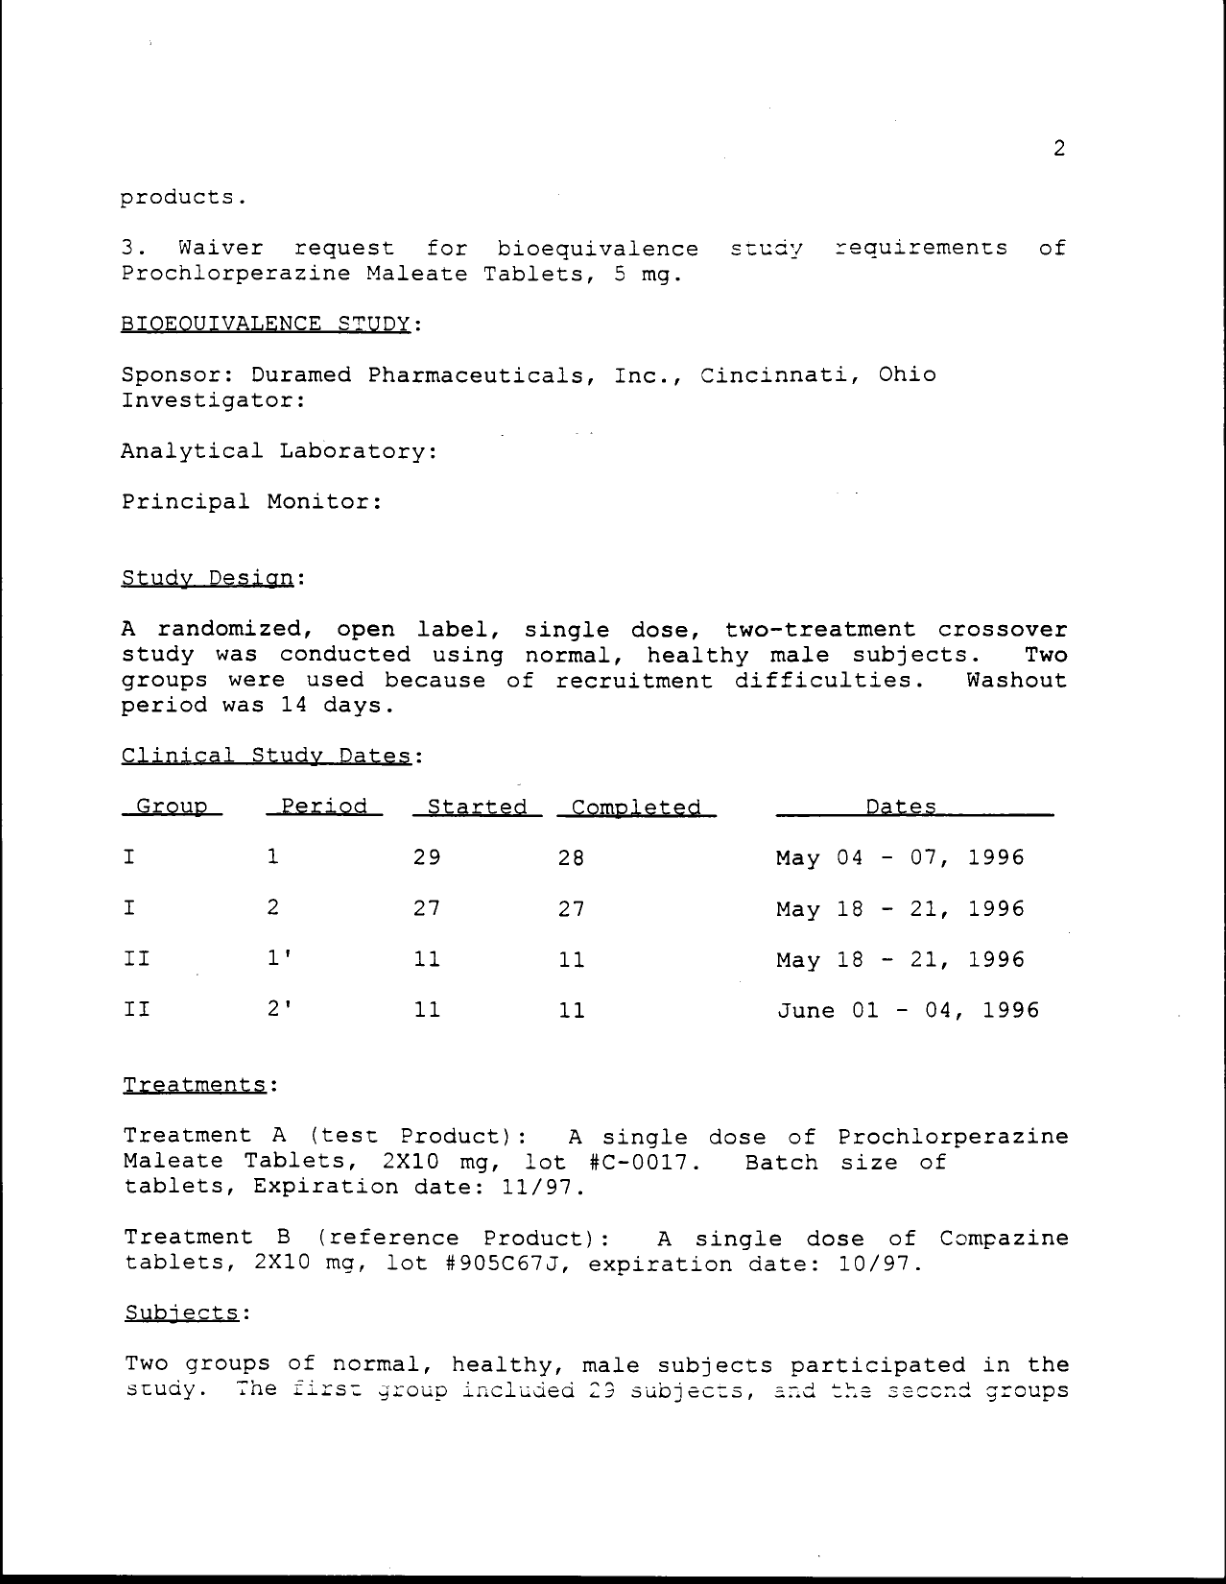nolines: (120, 789, 1053, 1023)
